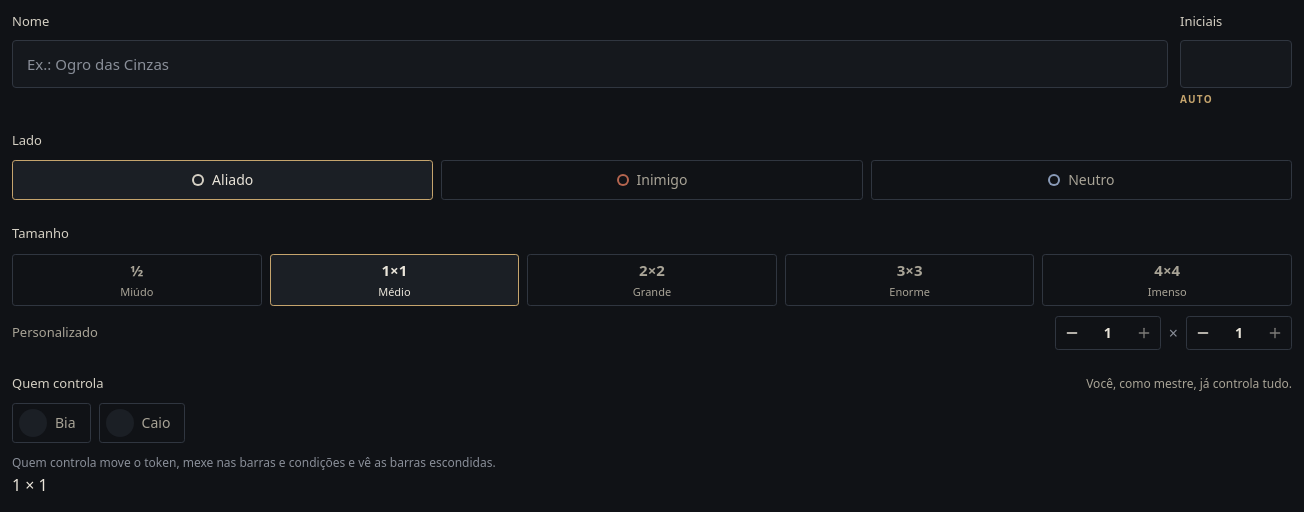
Test case: TokenBasicsTab, who controls › pressing Bia puts her among who controls
Click the button "Bia": [51, 423] box [12,403,91,443]
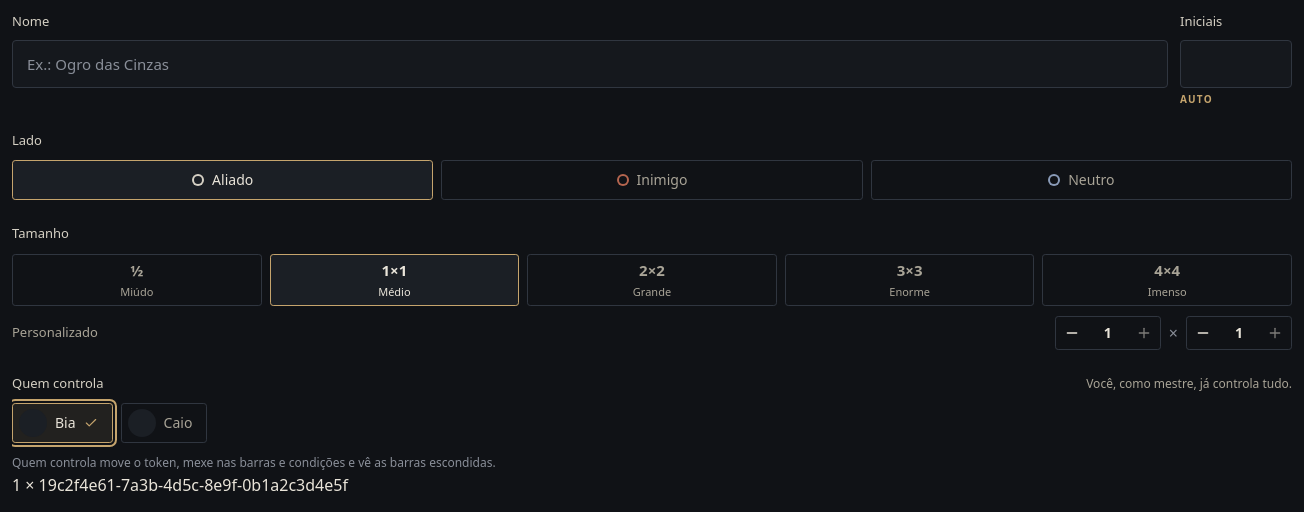
expect the text named "Quem controla agora" reads "9c2f4e61-7a3b-4d5c-8e9f-0b1a2c3d4e5f": met, box [48,474,348,496]
